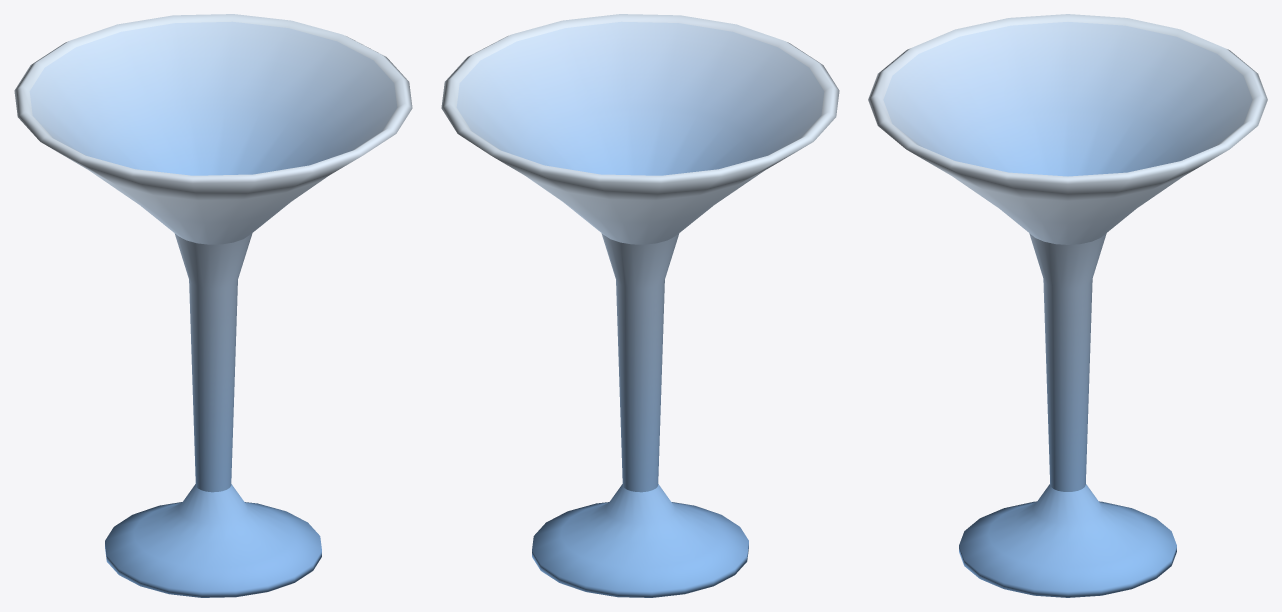
The model's file is glass_007.fbx.
The picture shows the model from 3 angles, left to right: view 1: azimuth 30°, elevation 25°; view 2: azimuth 150°, elevation 25°; view 3: azimuth 270°, elevation 25°; orthographic projection.
Visible parts, largest first — view 1: glass_007; view 2: glass_007; view 3: glass_007.
Boxes of the visible parts, left/top/right/bottom form: glass_007: left=14, top=14, right=412, bottom=597; glass_007: left=441, top=14, right=839, bottom=597; glass_007: left=868, top=14, right=1267, bottom=597.
Size of the model in its own units: 11.19 by 11.19 by 14.1.
